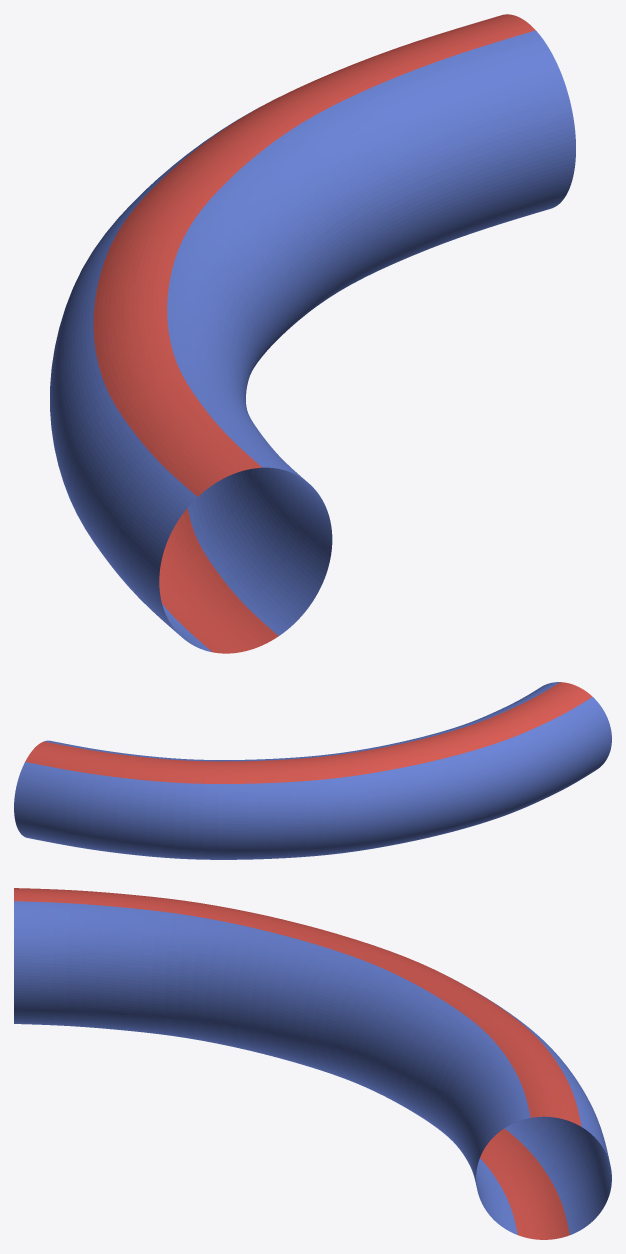
File: menu_orn_b_corner.fbx
3 renders of one model, top to bottom at view 1: azimuth 30°, elevation 25°; view 2: azimuth 150°, elevation 25°; view 3: azimuth 270°, elevation 25°, orthographic. The views are drawn at different scales.
Visible parts, largest first — view 1: Cylinder.001; view 2: Cylinder.001; view 3: Cylinder.001.
Boxes of the visible parts, x1=… form: Cylinder.001: x1=50, y1=14, x2=575, y2=653; Cylinder.001: x1=14, y1=682, x2=611, y2=859; Cylinder.001: x1=14, y1=888, x2=611, y2=1239.
Bounding box in the file's own units: 198 × 45.35 × 200.
